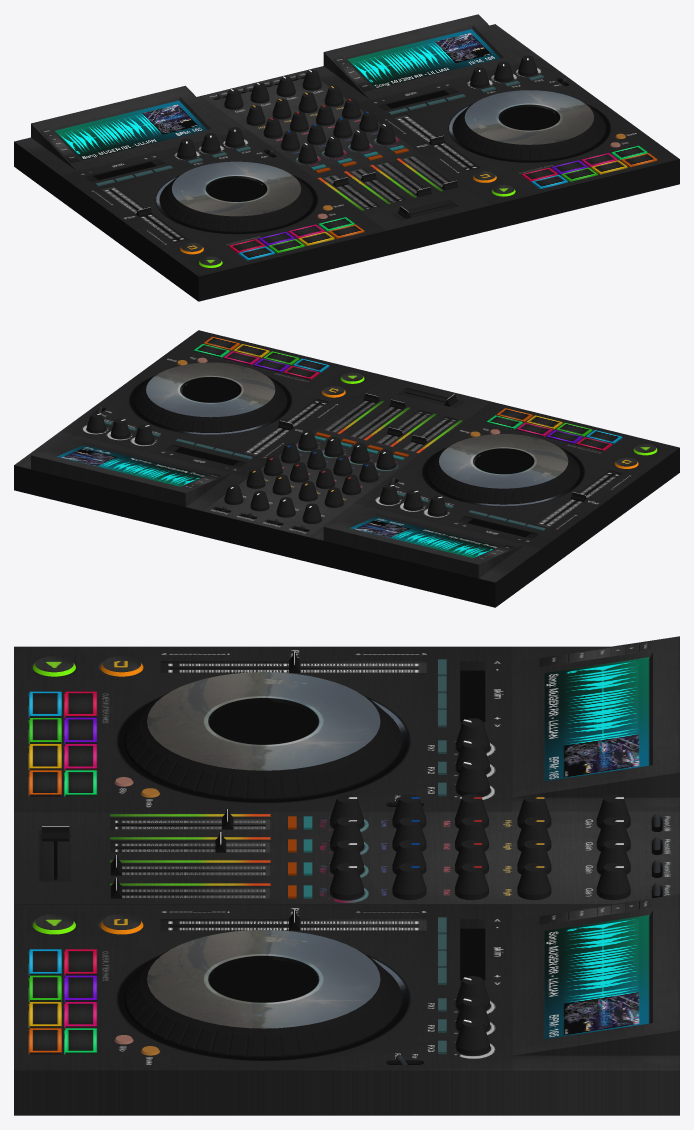
The model's file is dj_controller.glb.
3 views of the same model, one above another, from view 1: azimuth 30°, elevation 25°; view 2: azimuth 150°, elevation 25°; view 3: azimuth 270°, elevation 25° (orthographic). The views are drawn at different scales.
Parts seen in each view (by area): view 1: Object_10, Object_12, Object_8, Object_7, Object_6, Object_5, Object_17, Object_16, Object_19; view 2: Object_10, Object_12, Object_8, Object_7, Object_6, Object_5, Object_17, Object_16, Object_19; view 3: Object_10, Object_8, Object_7, Object_6, Object_16, Object_5, Object_17, Object_19.
Part boxes in pixels (box(x1,y1,x2,y2)): Object_10: box(14, 14, 679, 276); Object_12: box(14, 142, 679, 301); Object_8: box(177, 55, 537, 163); Object_7: box(159, 101, 605, 232); Object_6: box(208, 106, 557, 201); Object_5: box(95, 75, 543, 186); Object_17: box(136, 136, 457, 218); Object_16: box(93, 90, 449, 179); Object_19: box(110, 77, 568, 239); Object_10: box(14, 330, 679, 582); Object_12: box(14, 448, 679, 607); Object_8: box(87, 412, 446, 523); Object_7: box(134, 373, 580, 504); Object_6: box(182, 379, 532, 474); Object_5: box(104, 420, 545, 530); Object_17: box(278, 393, 586, 501); Object_16: box(174, 447, 530, 537); Object_19: box(101, 392, 613, 531); Object_10: box(14, 636, 679, 1115); Object_8: box(330, 718, 630, 1055); Object_7: box(125, 692, 402, 1057); Object_6: box(212, 701, 315, 1002); Object_16: box(460, 670, 485, 979); Object_5: box(438, 659, 446, 1054); Object_17: box(42, 652, 299, 930); Object_19: box(54, 668, 662, 1064).
Size of the model in its own units: 3.28 by 0.258 by 2.18.
Materials: 20 (1 with a texture image).
